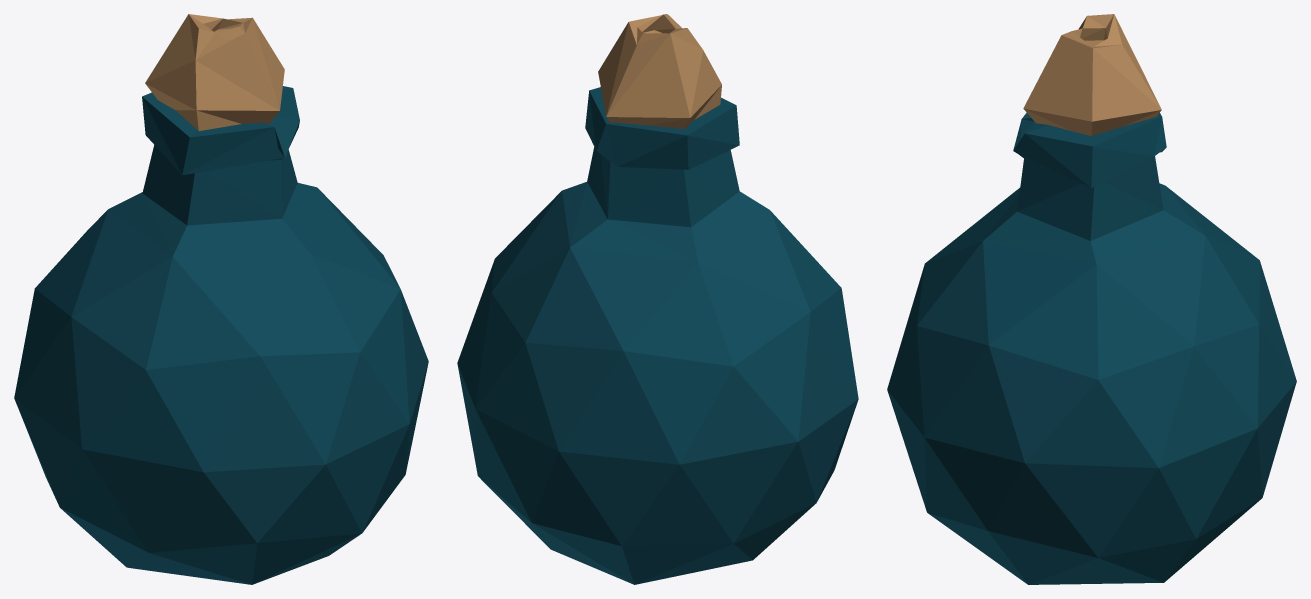
The model's file is AWS_Potion_Blue_015.fbx.
3 renders of one model, left to right at view 1: azimuth 30°, elevation 25°; view 2: azimuth 150°, elevation 25°; view 3: azimuth 270°, elevation 25°, orthographic.
Visible parts, largest first — view 1: AWS_Potion_Blue_015; view 2: AWS_Potion_Blue_015; view 3: AWS_Potion_Blue_015.
Boxes of the visible parts, bbox=[...] form: AWS_Potion_Blue_015: bbox=[14, 14, 428, 584]; AWS_Potion_Blue_015: bbox=[457, 14, 858, 584]; AWS_Potion_Blue_015: bbox=[887, 14, 1296, 584].
Size of the model in its own units: 7.59 by 11.63 by 7.89.
